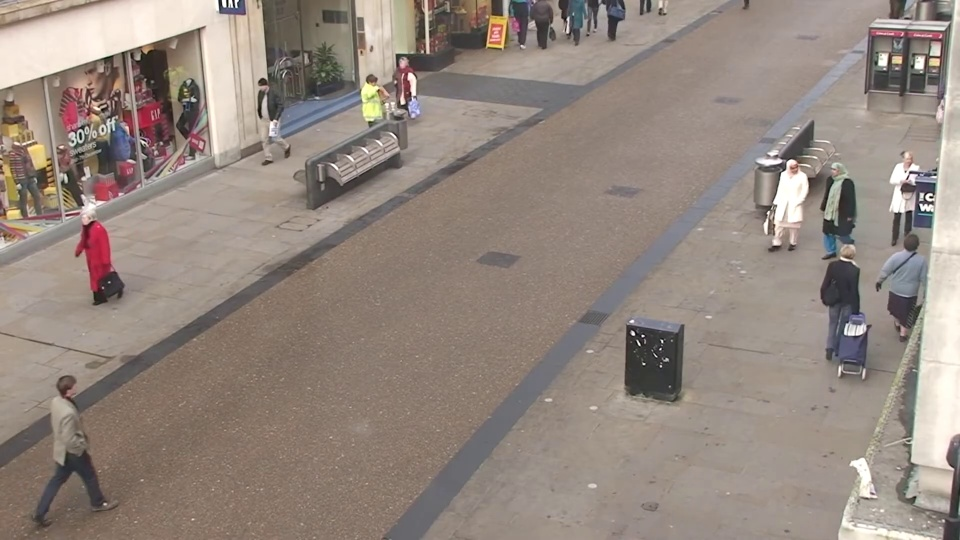pedestrian: (60, 356, 128, 514), (877, 226, 931, 353), (58, 205, 112, 322), (821, 233, 870, 361), (877, 148, 924, 255), (806, 159, 848, 267), (765, 156, 804, 263), (245, 76, 277, 160), (358, 71, 388, 153), (386, 54, 414, 132)
